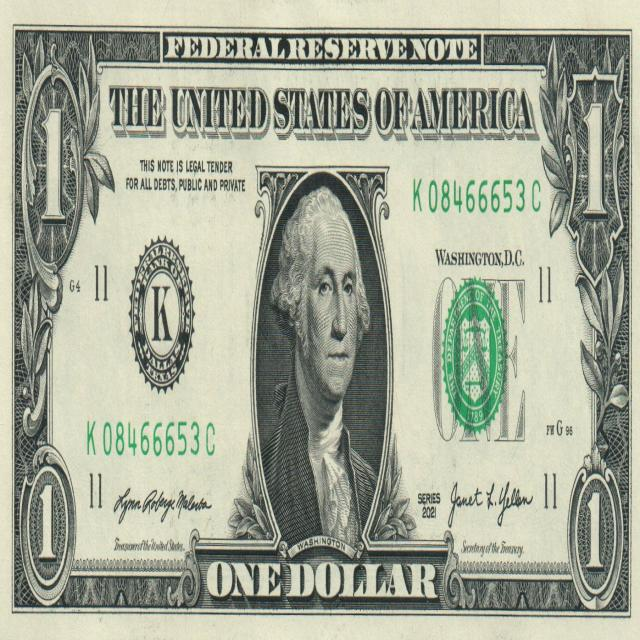SerialNumber: (87, 421, 214, 456), (414, 180, 540, 213)
